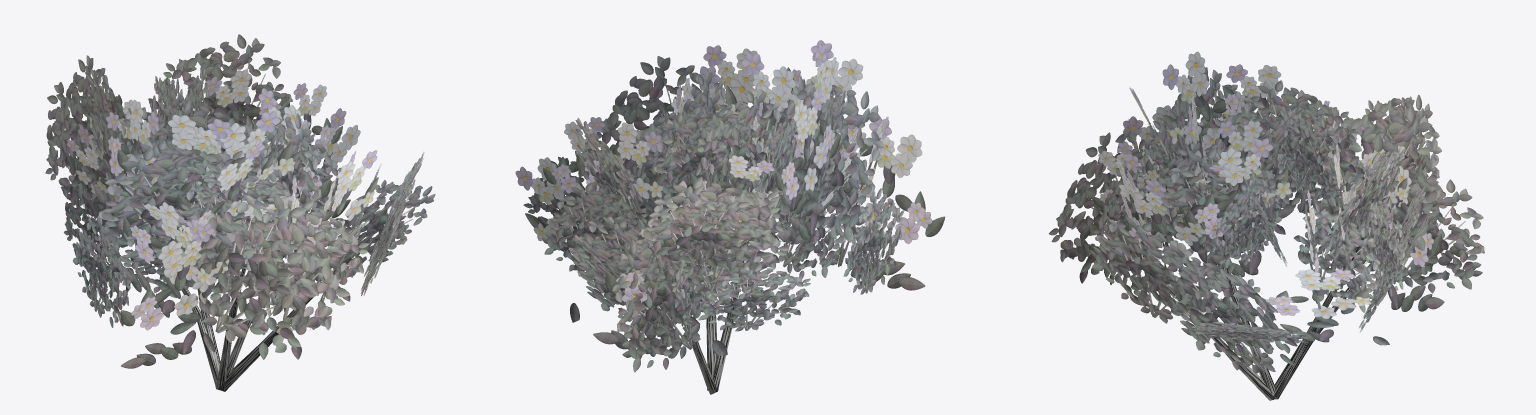
Rendered from bush_bloom_l0.gltf.
The picture shows the model from 3 angles, left to right: view 1: azimuth 30°, elevation 25°; view 2: azimuth 150°, elevation 25°; view 3: azimuth 270°, elevation 25°; orthographic projection. The views are drawn at different scales.
Visible parts, largest first — view 1: bush_bloom_l0; view 2: bush_bloom_l0; view 3: bush_bloom_l0.
Part boxes in pixels (left/top/right/bottom): bush_bloom_l0: left=45, top=34, right=435, bottom=391; bush_bloom_l0: left=515, top=40, right=945, bottom=394; bush_bloom_l0: left=1048, top=51, right=1484, bottom=400.
Size of the model in its own units: 2.46 by 1.9 by 2.68.
Materials: 2 (2 with a texture image).
